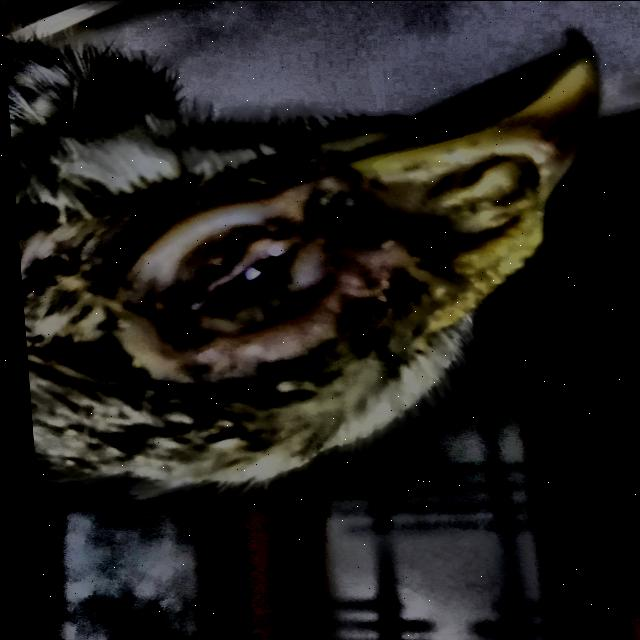Coryza: (0, 2, 640, 542)
